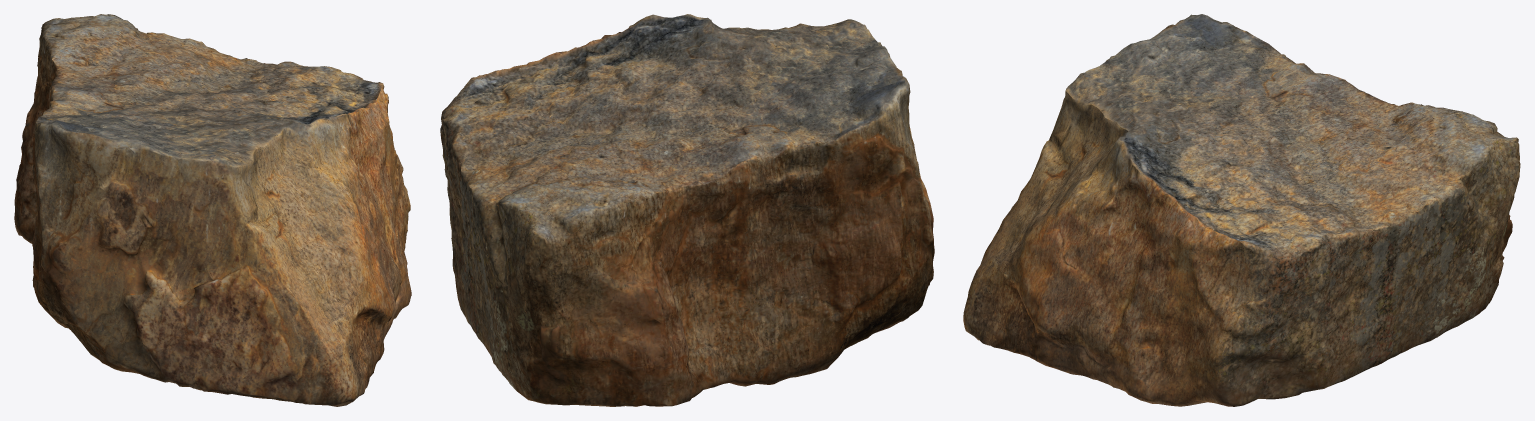
The model's file is namaqualand_boulder_03.glb.
3 views of the same model, side by side, from view 1: azimuth 30°, elevation 25°; view 2: azimuth 150°, elevation 25°; view 3: azimuth 270°, elevation 25° (orthographic). The views are drawn at different scales.
Parts seen in each view (by area): view 1: boulder_03_LOD0; view 2: boulder_03_LOD0; view 3: boulder_03_LOD0.
Boxes of the visible parts, x1,y1,x2,y2 form: boulder_03_LOD0: (14, 14, 411, 406); boulder_03_LOD0: (440, 14, 934, 406); boulder_03_LOD0: (963, 14, 1520, 406).
Size of the model in its own units: 2.4 by 1.47 by 3.07.
1 material, 1 textured.
